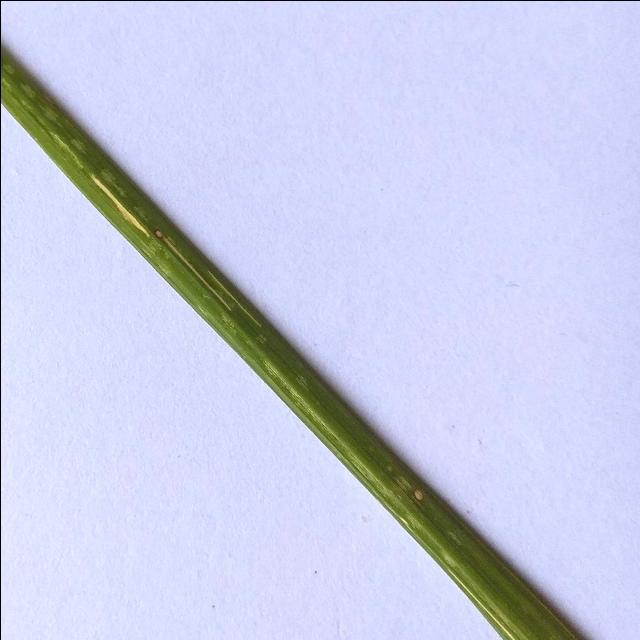Leaf blast: (0, 23, 594, 640)
